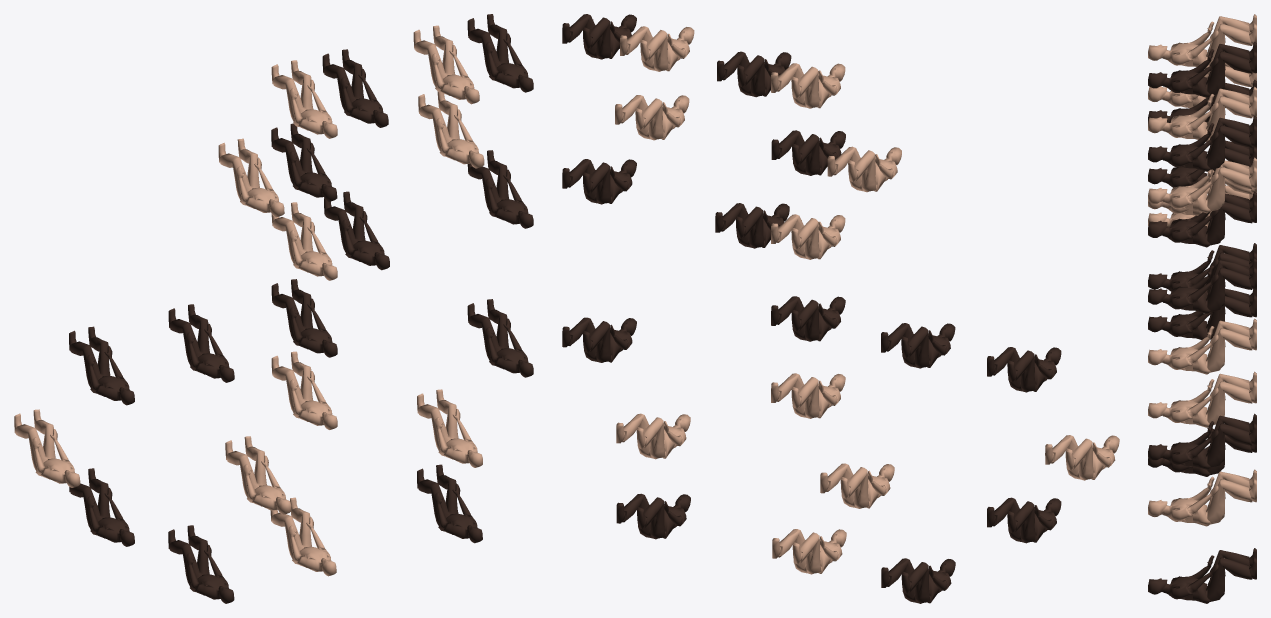
The model's file is theatrePeople.obj.
3 views of the same model, side by side, from view 1: azimuth 30°, elevation 25°; view 2: azimuth 150°, elevation 25°; view 3: azimuth 270°, elevation 25° (orthographic). The views are drawn at different scales.
Parts seen in each view (by area): view 1: Object.021_Object.038; view 2: Object.021_Object.038; view 3: Object.021_Object.038.
Part boxes in pixels (x1,y1,x2,y2): Object.021_Object.038: (14,14,533,603); Object.021_Object.038: (562,14,1119,603); Object.021_Object.038: (1148,14,1256,603).
Size of the model in its own units: 77.78 by 74.29 by 14.46.
1 material, 1 textured.
